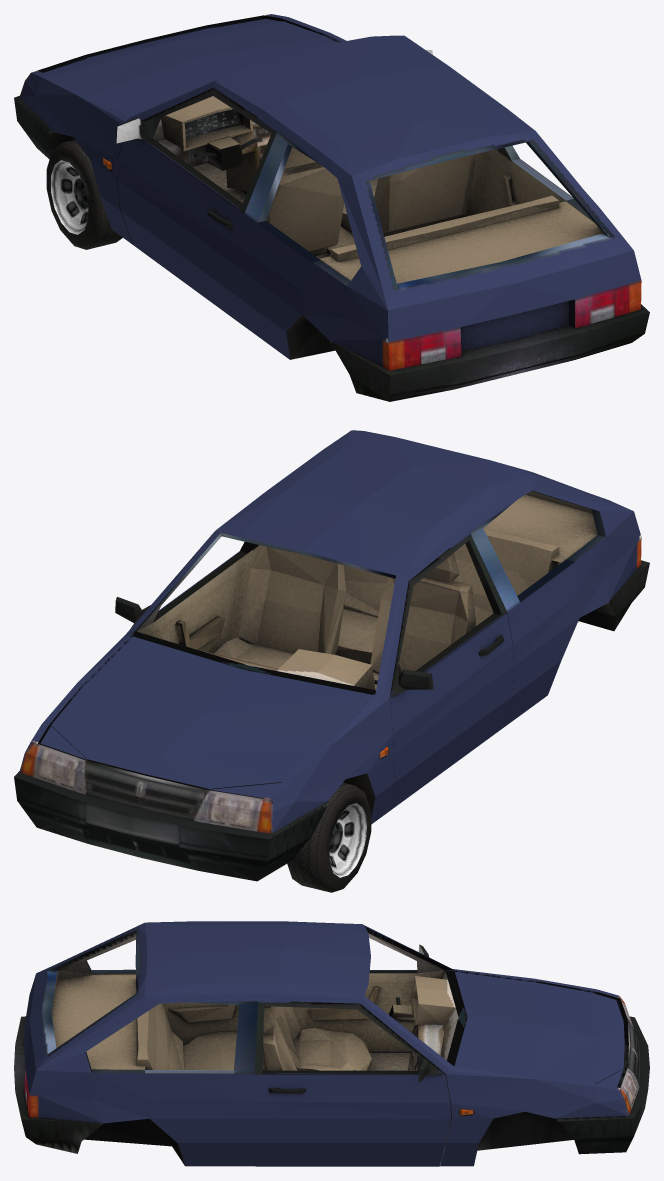
The model's file is car.glb.
3 views of the same model, one above another, from view 1: azimuth 30°, elevation 25°; view 2: azimuth 150°, elevation 25°; view 3: azimuth 270°, elevation 25° (orthographic). The views are drawn at different scales.
Parts seen in each view (by area): view 1: kuzov, doorL, kapot, wheel, doorR; view 2: kuzov, kapot, doorL, doorR, wheel; view 3: kuzov, doorR, kapot, doorL.
Boxes of the visible parts, x1,y1,x2,y2 form: kuzov: [14, 14, 649, 401]; doorL: [115, 87, 277, 326]; kapot: [43, 19, 337, 116]; wheel: [46, 140, 122, 249]; doorR: [426, 50, 498, 218]; kuzov: [14, 430, 649, 881]; kapot: [40, 636, 374, 798]; doorL: [389, 532, 514, 809]; doorR: [115, 542, 254, 653]; wheel: [287, 782, 371, 892]; kuzov: [14, 921, 649, 1166]; doorR: [254, 1000, 450, 1166]; kapot: [454, 971, 624, 1087]; doorL: [292, 932, 444, 1051].
Size of what is drawn, in the model's own units: 1.8 by 1.32 by 3.86.
1 material, 1 textured.
